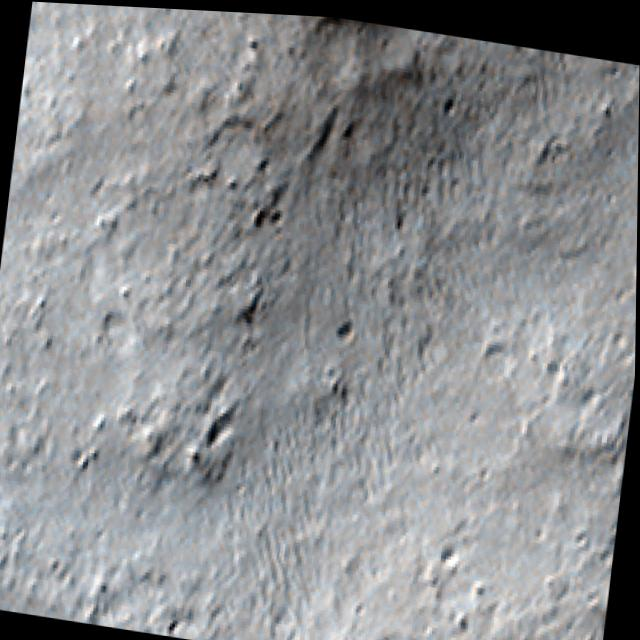Crater: (302, 12, 448, 86)
